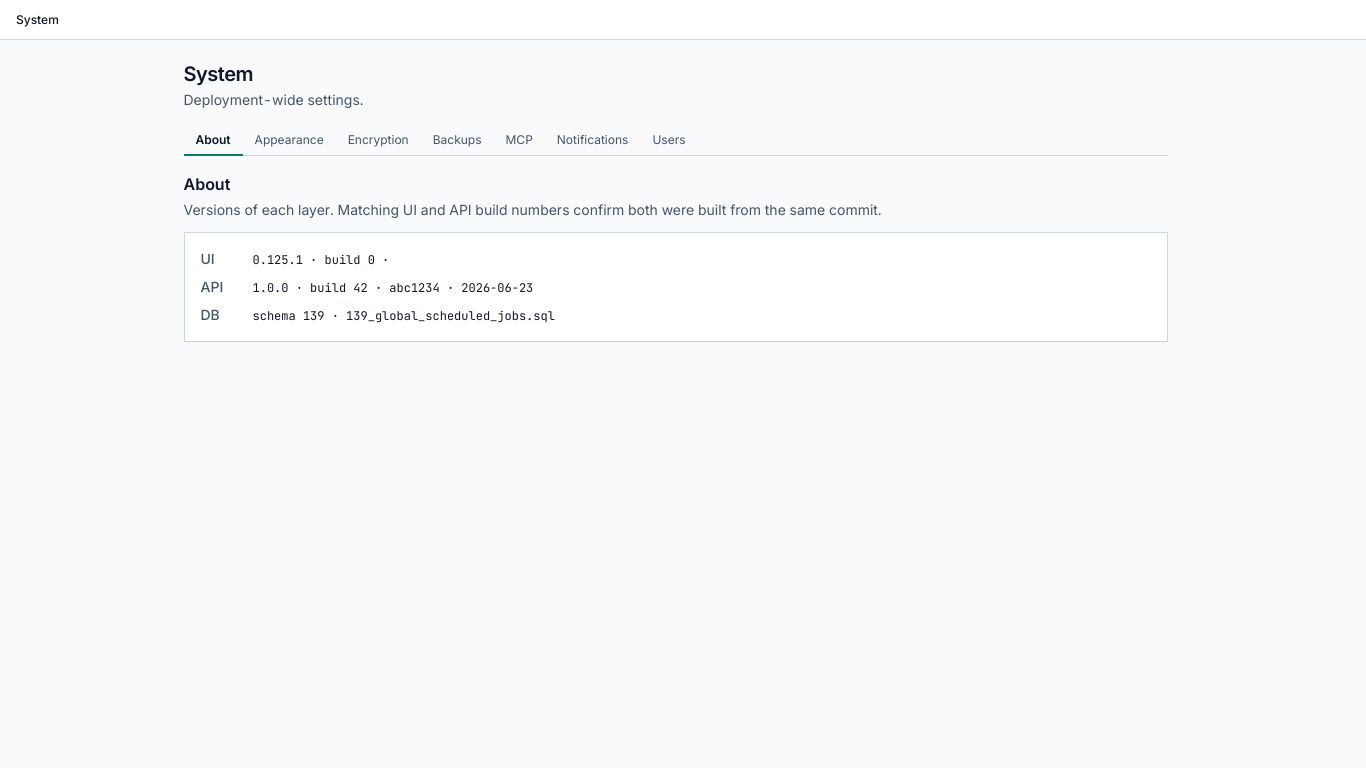
Test case: SystemSettingsPage › shows the MCP tab to an admin and renders the toggle
Step 1. Click the tab "MCP" → (519, 141), box [494,126,545,156]
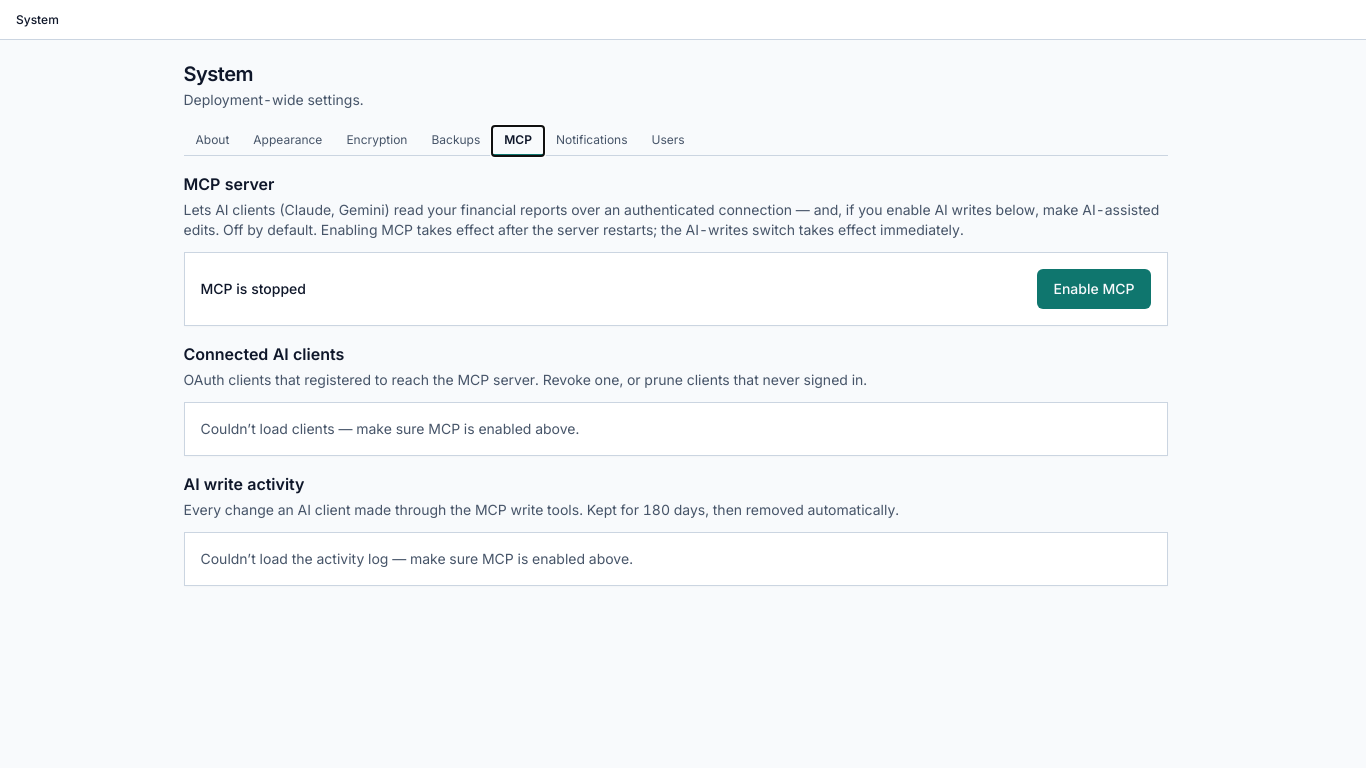
expect the text "MCP is stopped" is shown: met, box [200,280,306,297]
expect the button "Enable MCP" is shown: met, box [1038,269,1150,309]
